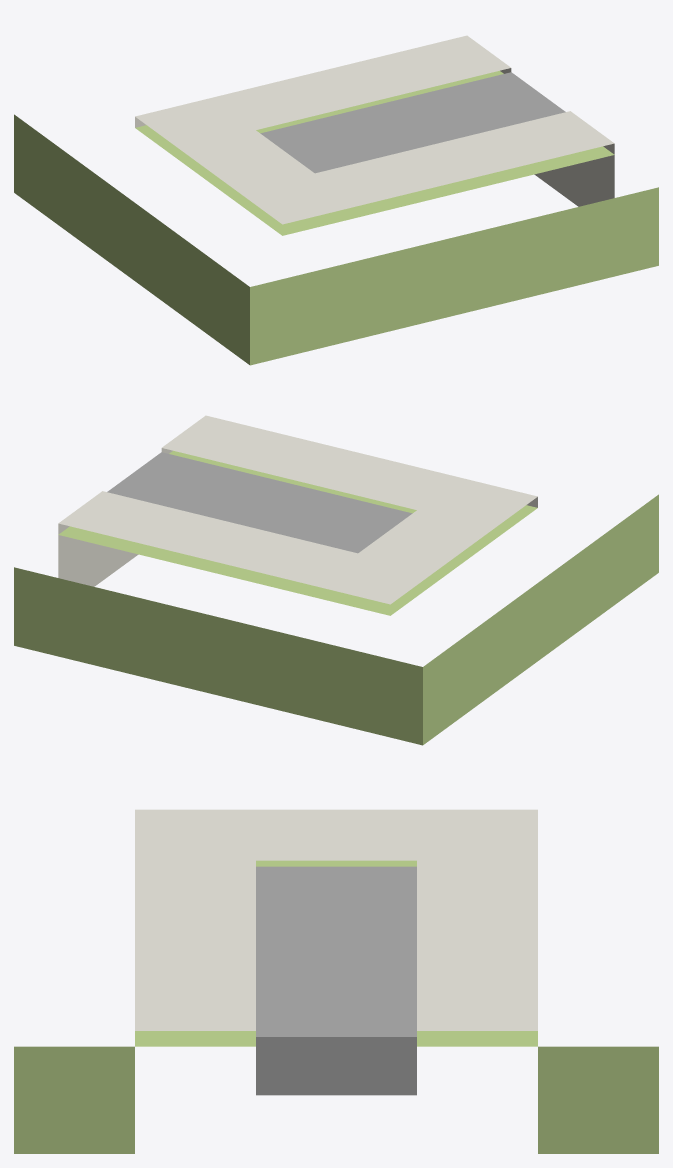
Rendered from roadtile-040.glb.
3 views of the same model, one above another, from view 1: azimuth 30°, elevation 25°; view 2: azimuth 150°, elevation 25°; view 3: azimuth 270°, elevation 25° (orthographic). The views are drawn at different scales.
Visible parts, largest first — view 1: Mesh1 Group1 Model; view 2: Mesh1 Group1 Model; view 3: Mesh1 Group1 Model.
Boxes of the visible parts, <box> form: Mesh1 Group1 Model: <box>14,35,658,365</box>; Mesh1 Group1 Model: <box>14,415,658,745</box>; Mesh1 Group1 Model: <box>14,809,658,1153</box>.
Bounding box in the file's own units: 3 × 0.63 × 3.
